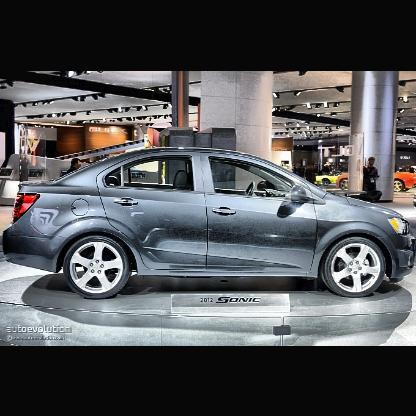Chevrolet Sonic Sedan 2012: (4, 126, 416, 303)
